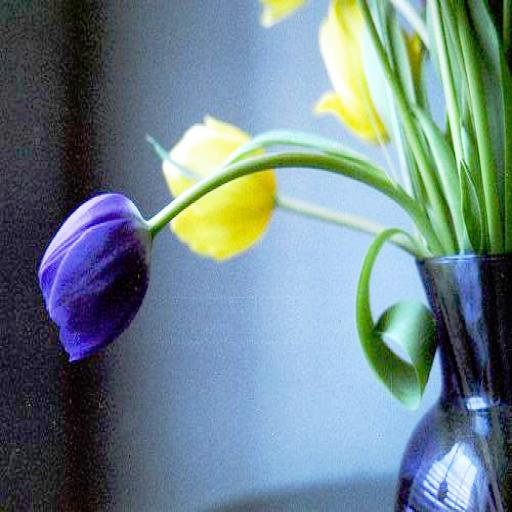tulip: (36, 192, 148, 362)
